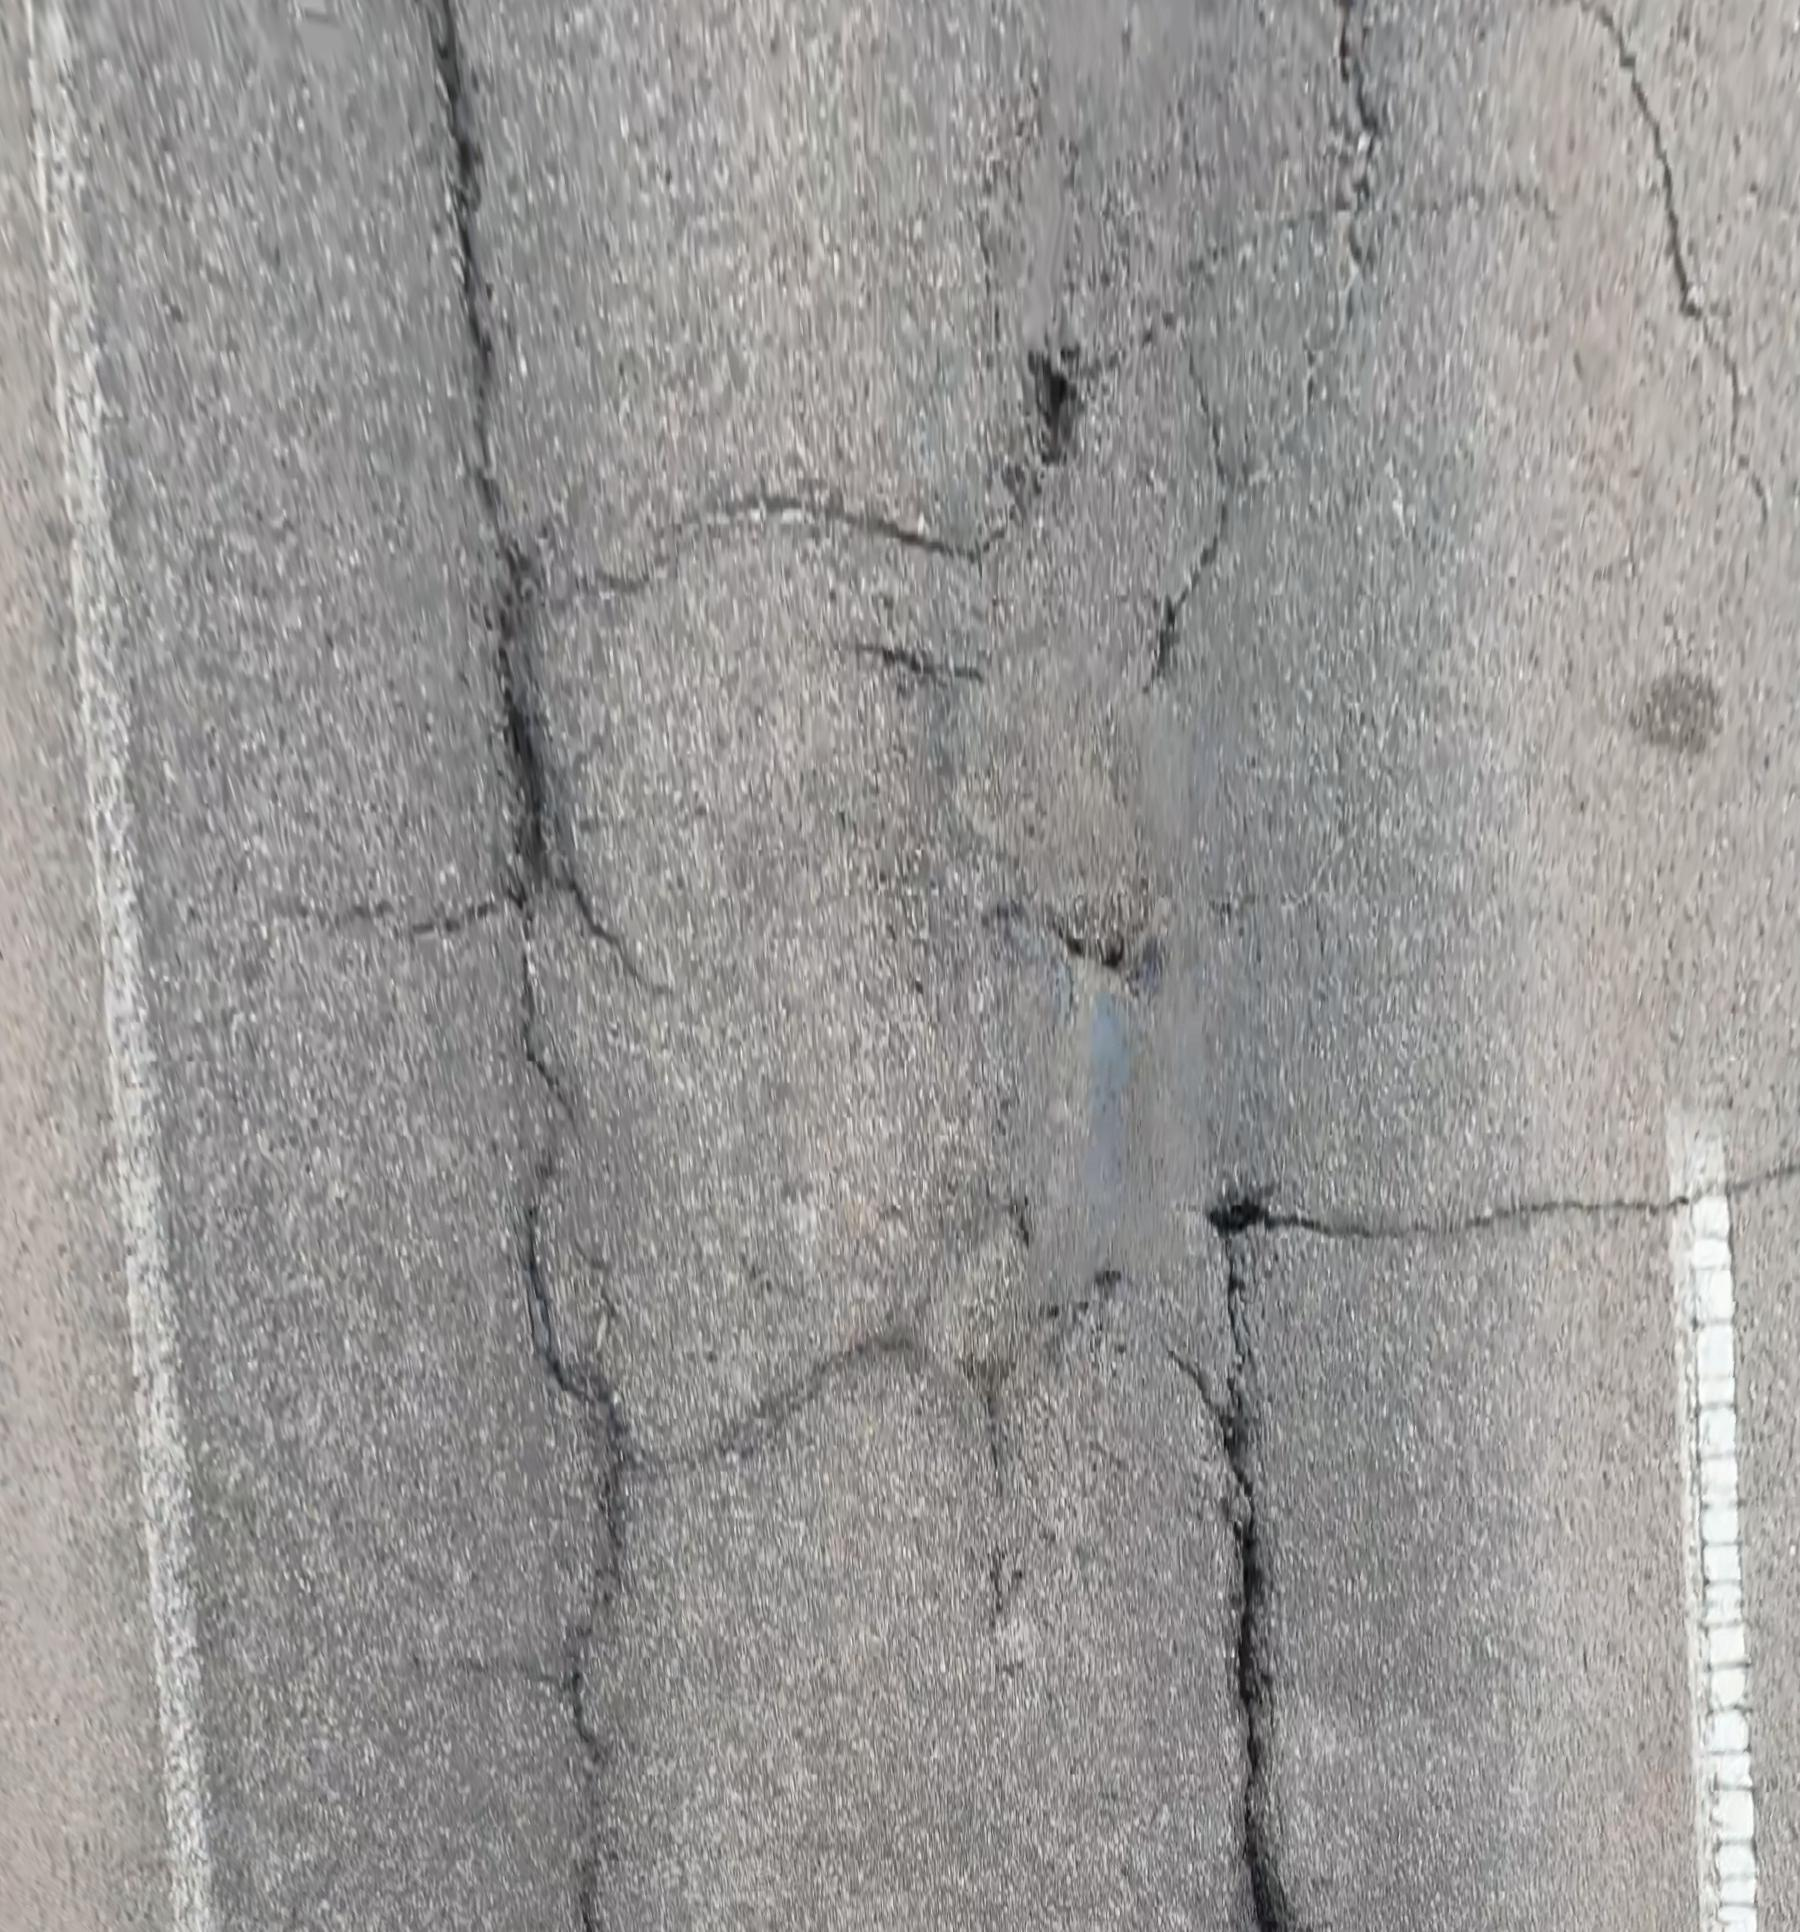pothole: (1027, 369, 1091, 477)
pothole_patch_poor: (930, 0, 1528, 1932)
